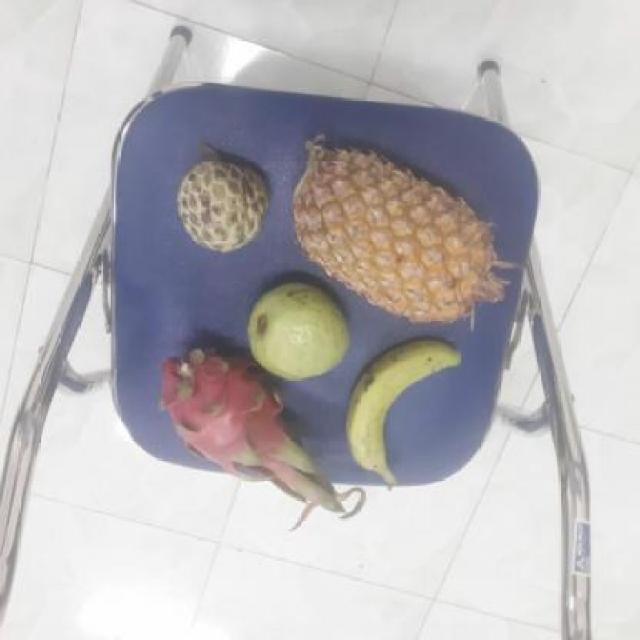banana: (342, 332, 466, 480)
dragon fruit: (168, 344, 308, 481)
guava: (248, 280, 357, 380)
pineapple: (289, 141, 506, 324)
sugar apple: (178, 152, 273, 252)
